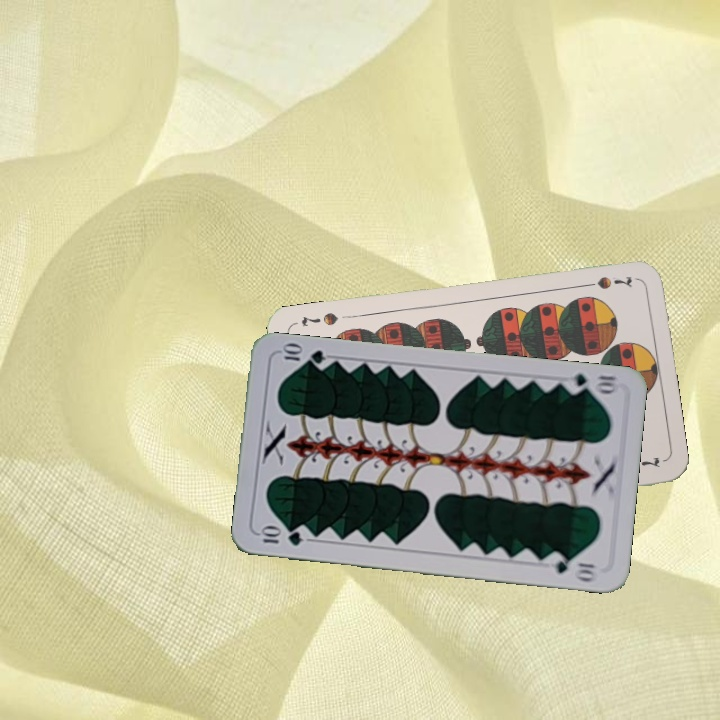G10: (561, 369, 621, 398), (256, 525, 306, 548)
S7: (578, 272, 635, 292)
